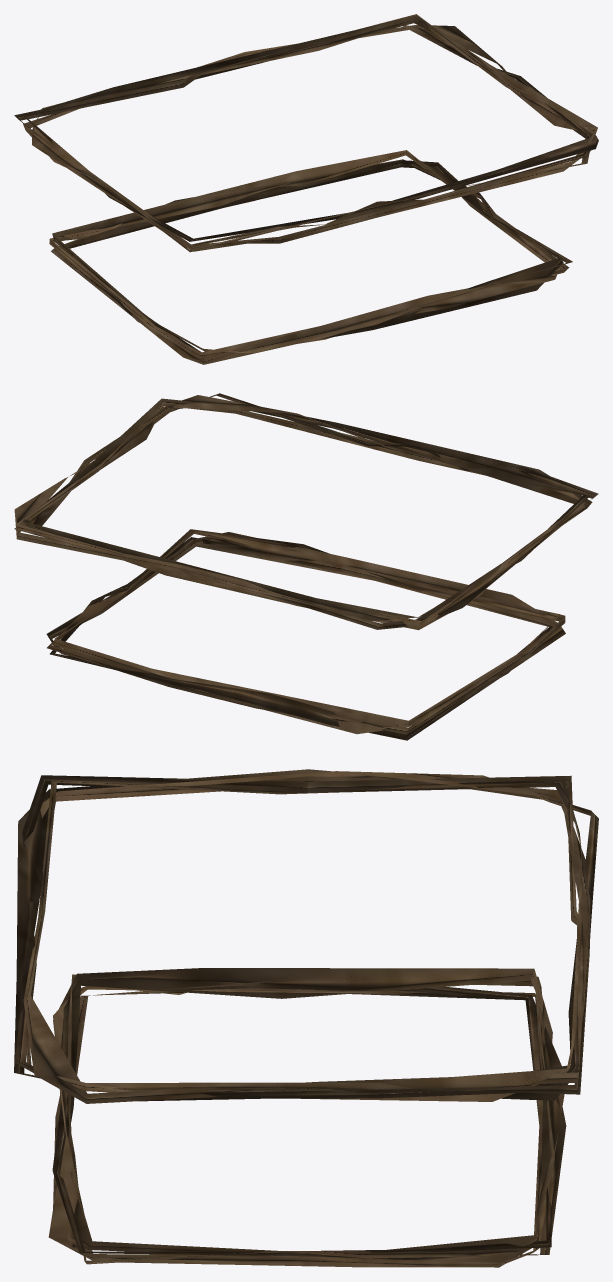
Rendered from panier.glb.
The picture shows the model from 3 angles, top to bottom: view 1: azimuth 30°, elevation 25°; view 2: azimuth 150°, elevation 25°; view 3: azimuth 270°, elevation 25°; orthographic projection. The views are drawn at different scales.
Visible parts, largest first — view 1: wicker_basket_01; view 2: wicker_basket_01; view 3: wicker_basket_01.
Boxes of the visible parts, x1,y1,x2,y2 form: wicker_basket_01: (14, 14, 598, 364); wicker_basket_01: (14, 393, 598, 740); wicker_basket_01: (14, 769, 598, 1267).
Size of the model in its own units: 0.38 by 0.116 by 0.2926.
Materials: 1 (1 with a texture image).
